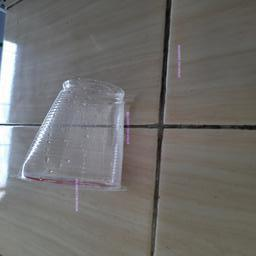plastic: (21, 81, 124, 188)
